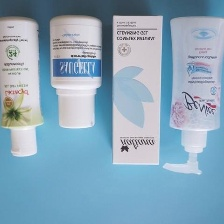book: (106, 12, 165, 168)
cleaning_solution: (158, 13, 224, 176), (47, 12, 104, 130), (0, 13, 46, 159)
